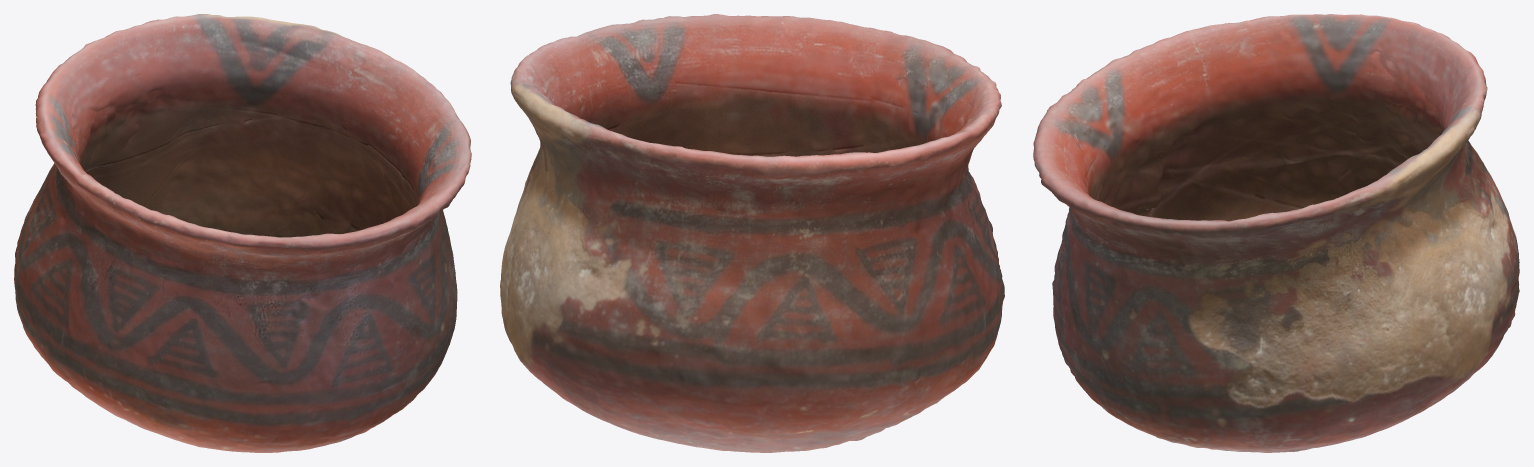
File: obj_manka_chukibamba_e1dd29.glb
3 renders of one model, left to right at view 1: azimuth 30°, elevation 25°; view 2: azimuth 150°, elevation 25°; view 3: azimuth 270°, elevation 25°, orthographic. The views are drawn at different scales.
Visible parts, largest first — view 1: obj_manka_chukibamba_e1dd29; view 2: obj_manka_chukibamba_e1dd29; view 3: obj_manka_chukibamba_e1dd29.
Part boxes in pixels (left/top/right/bottom): obj_manka_chukibamba_e1dd29: left=14, top=14, right=471, bottom=452; obj_manka_chukibamba_e1dd29: left=500, top=14, right=1004, bottom=452; obj_manka_chukibamba_e1dd29: left=1033, top=14, right=1519, bottom=452.
Size of the model in its own units: 0.3757 by 0.3 by 0.3901.
1 material, 1 textured.
